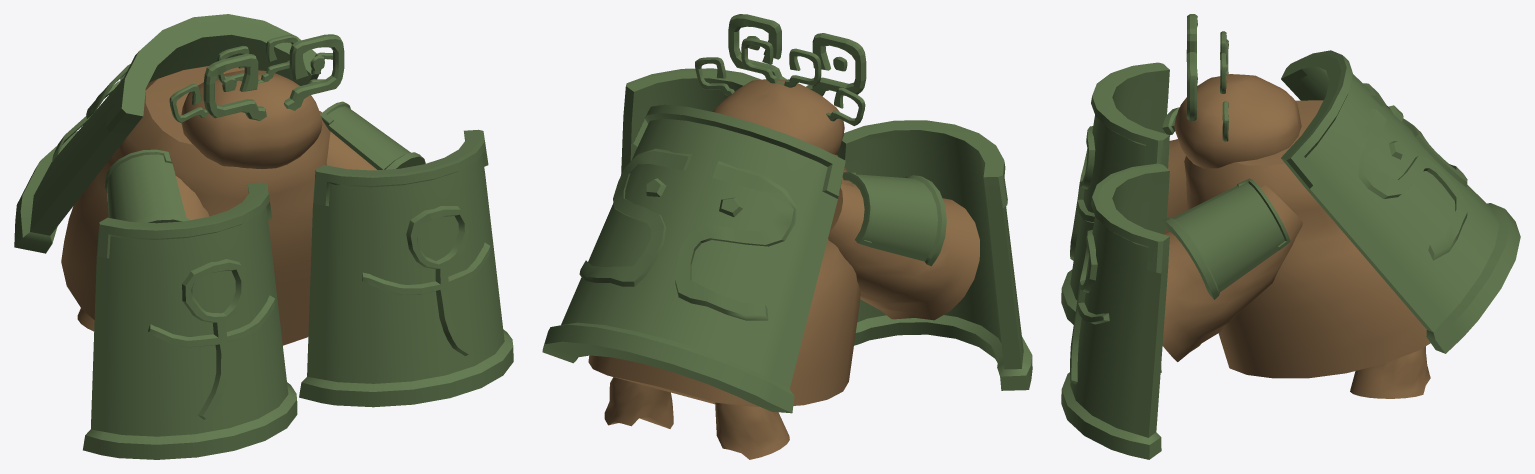
Rendered from BellGolemPLACEHOLDER.fbx.
3 views of the same model, side by side, from view 1: azimuth 30°, elevation 25°; view 2: azimuth 150°, elevation 25°; view 3: azimuth 270°, elevation 25° (orthographic). The views are drawn at different scales.
Visible parts, largest first — view 1: monster1uv; view 2: monster1uv; view 3: monster1uv.
Part boxes in pixels (x1=…): monster1uv: x1=14, y1=14, x2=513, y2=459; monster1uv: x1=542, y1=14, x2=1032, y2=459; monster1uv: x1=1061, y1=14, x2=1520, y2=459.
Bounding box in the file's own units: 420 × 321 × 408.
